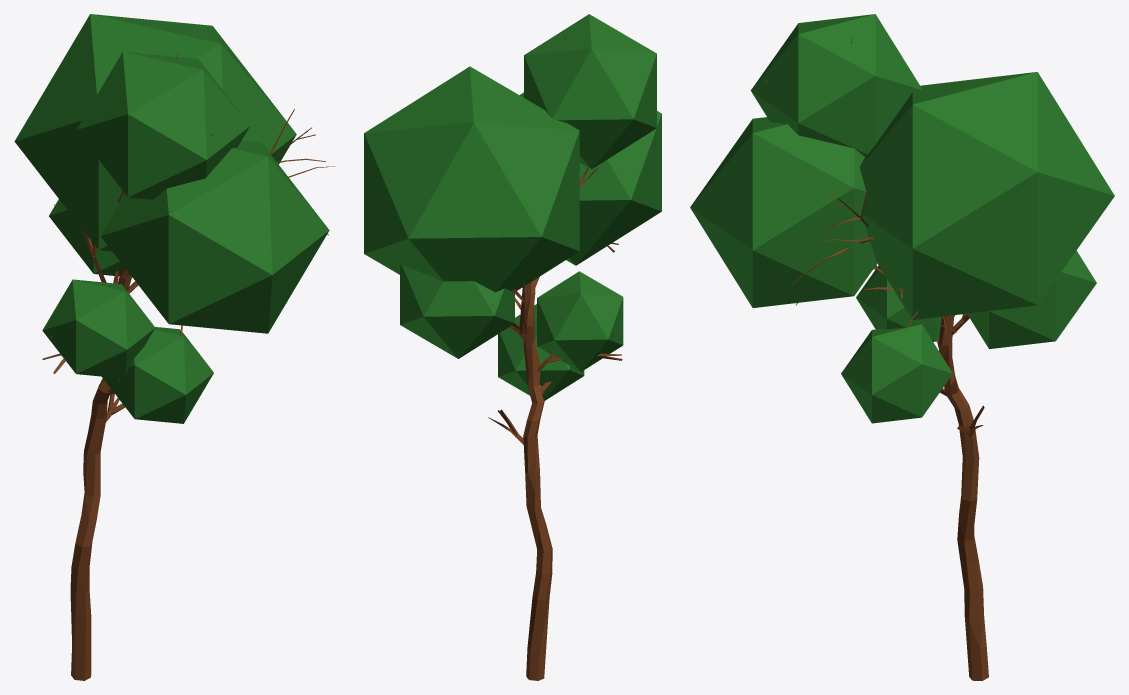
File: AspenTree.fbx
3 renders of one model, left to right at view 1: azimuth 30°, elevation 25°; view 2: azimuth 150°, elevation 25°; view 3: azimuth 270°, elevation 25°, orthographic. The views are drawn at different scales.
Visible parts, largest first — view 1: AspenTree; view 2: AspenTree; view 3: AspenTree.
Part boxes in pixels (x1=…): AspenTree: x1=14, y1=14, x2=334, y2=680; AspenTree: x1=364, y1=14, x2=661, y2=680; AspenTree: x1=690, y1=14, x2=1114, y2=680.
Size of the model in its own units: 4.58 by 11.68 by 6.83.
